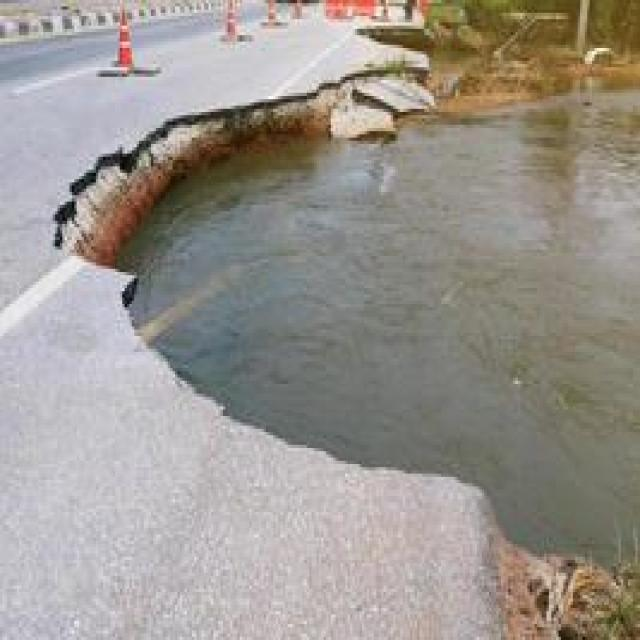road collapse: (18, 28, 640, 640)
